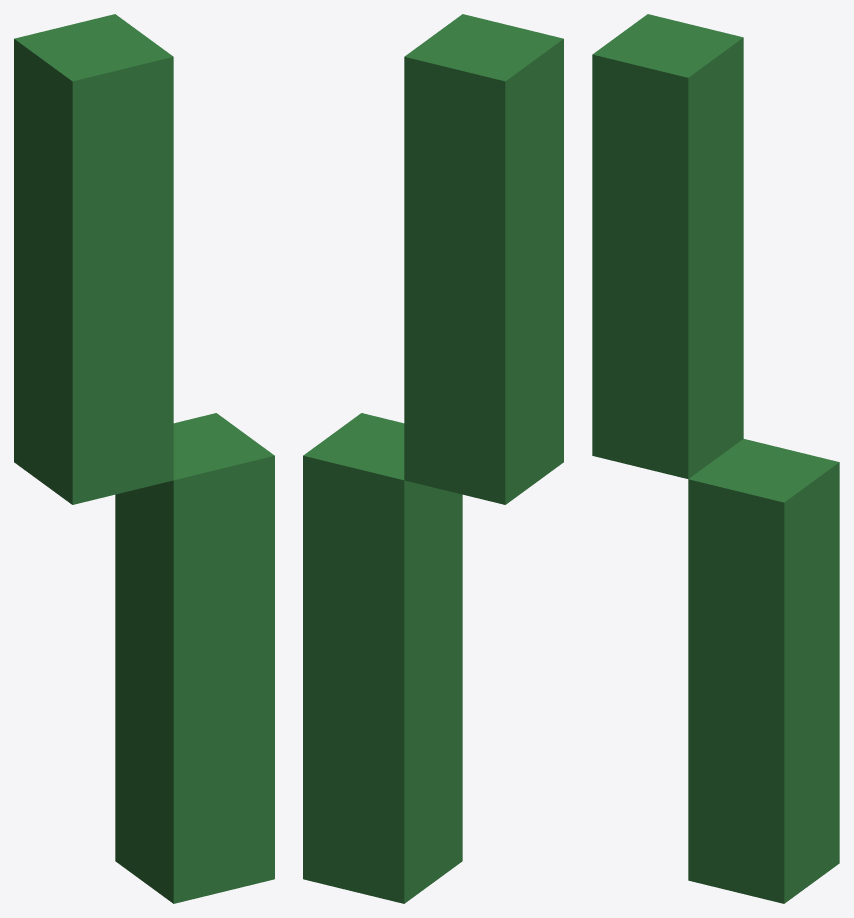
Rendered from grass_tall3.obj.
3 views of the same model, side by side, from view 1: azimuth 30°, elevation 25°; view 2: azimuth 150°, elevation 25°; view 3: azimuth 330°, elevation 25° (orthographic). The views are drawn at different scales.
Size of the model in its own units: 2 by 8 by 1.
Materials: 1 (1 with a texture image).
